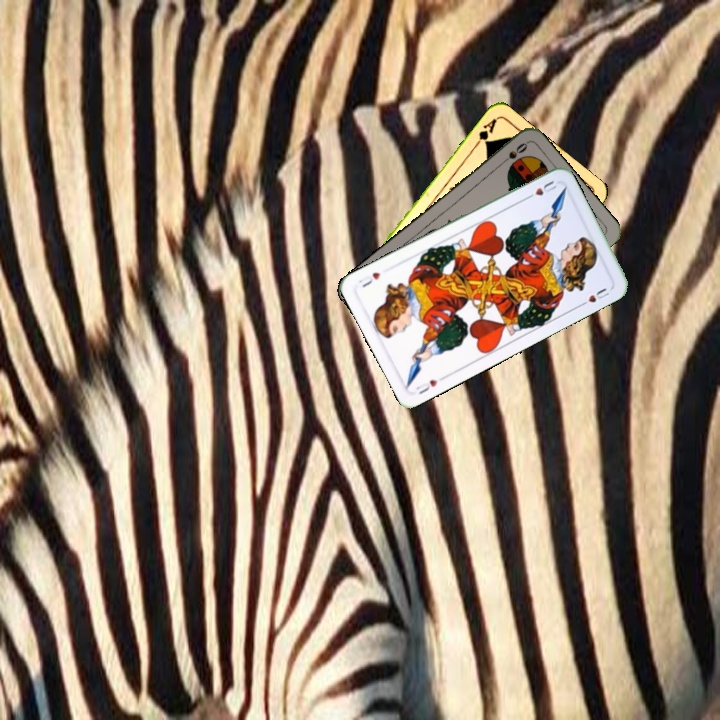GA: (470, 114, 500, 150)
HU: (521, 176, 559, 202), (412, 375, 441, 397)
SO: (495, 139, 530, 169)
